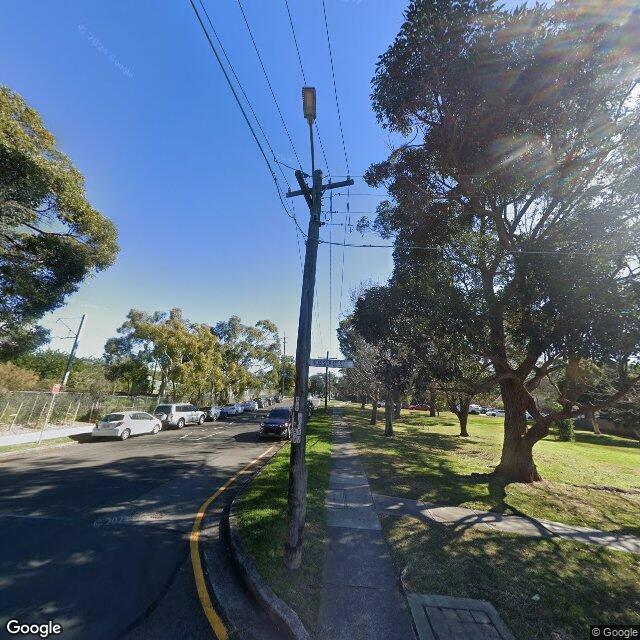crossarm: (286, 175, 354, 198), (294, 169, 315, 210), (317, 356, 336, 360)
streetlight: (302, 87, 317, 224)
timber-pole: (283, 169, 323, 569), (62, 314, 86, 386), (325, 351, 329, 412)
